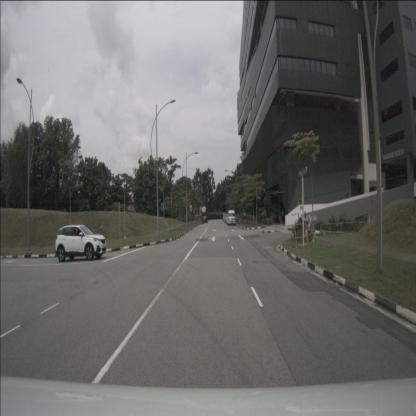human-pedestrian-adult: (282, 208, 286, 224), (244, 212, 246, 221)
vehicle-car: (55, 225, 107, 262), (227, 210, 236, 225), (226, 214, 231, 224), (203, 215, 208, 224), (224, 214, 229, 223), (223, 214, 226, 221)
